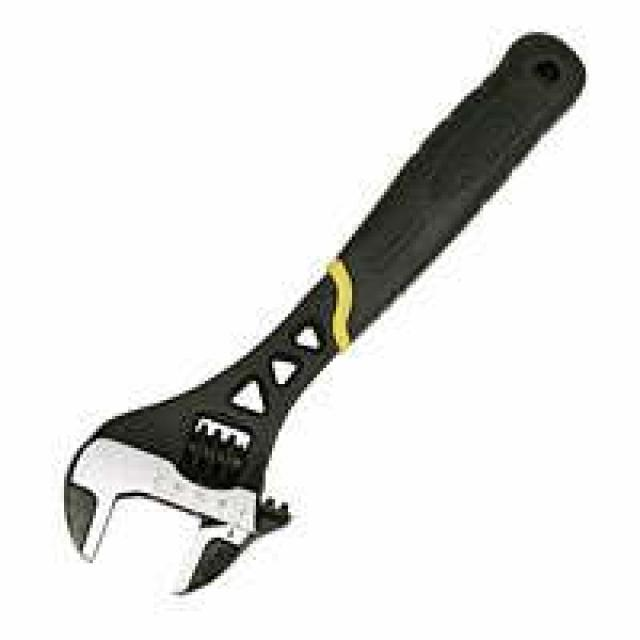wrench: (56, 16, 598, 613)
